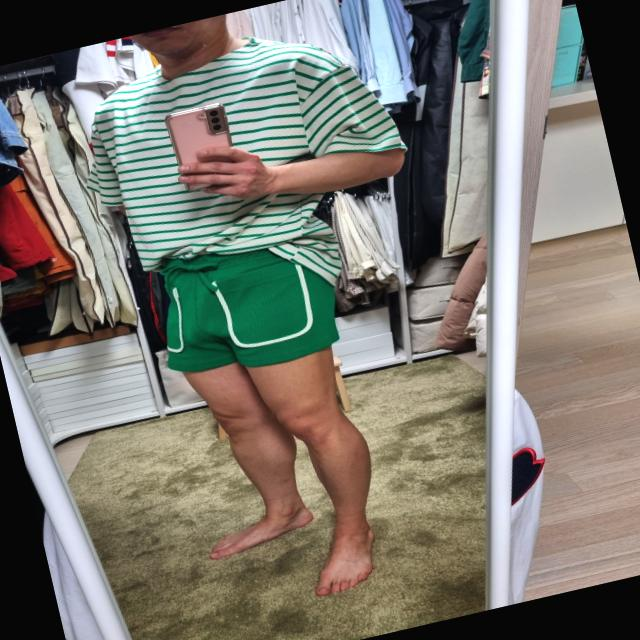shortpants: (141, 220, 350, 390)
shortsleeve: (62, 9, 433, 342)
